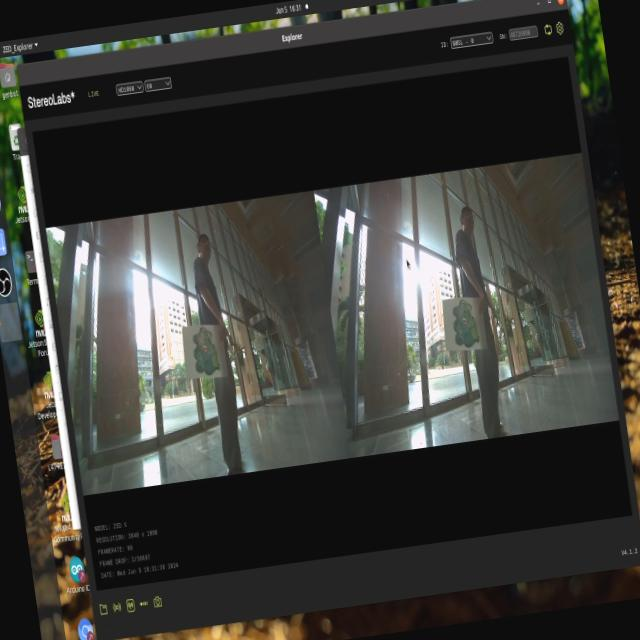green: (446, 295, 491, 354), (198, 323, 230, 381)
